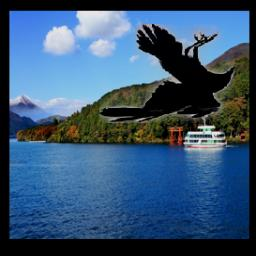Crow: (99, 25, 234, 124)
